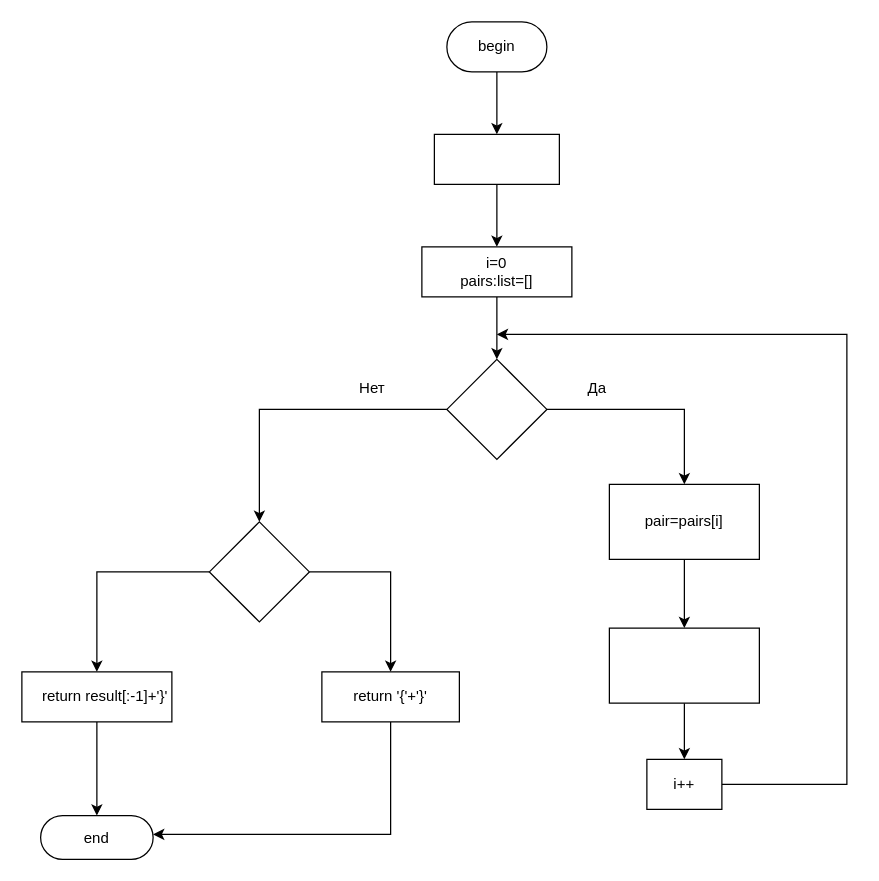
Some shapes in this 879 by 881 pixel diagram are drawn without their labels. The centre of each missing label's shape, as x and y in pixels:
i<len(pairs): (x=496, y=408)
result += f'<{elem},{deg}>,': (x=683, y=665)
result='{': (x=496, y=158)
result=='{': (x=258, y=571)
